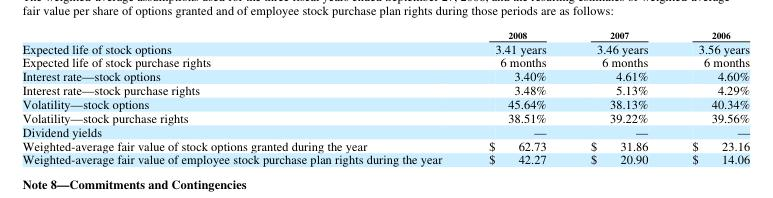table: (21, 28, 749, 166)
table column: (21, 28, 464, 166), (464, 28, 567, 166), (567, 28, 669, 166), (669, 28, 749, 166)
table column header: (21, 28, 749, 68)
table row: (21, 28, 749, 68), (21, 151, 749, 166), (21, 68, 749, 82), (21, 82, 749, 96), (21, 96, 749, 110), (21, 123, 749, 137), (21, 137, 749, 151), (21, 110, 749, 123)
